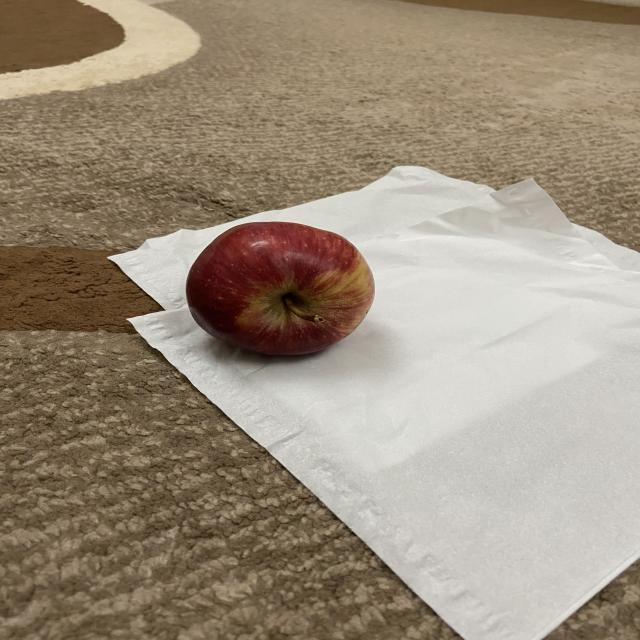apple: (183, 218, 379, 360)
